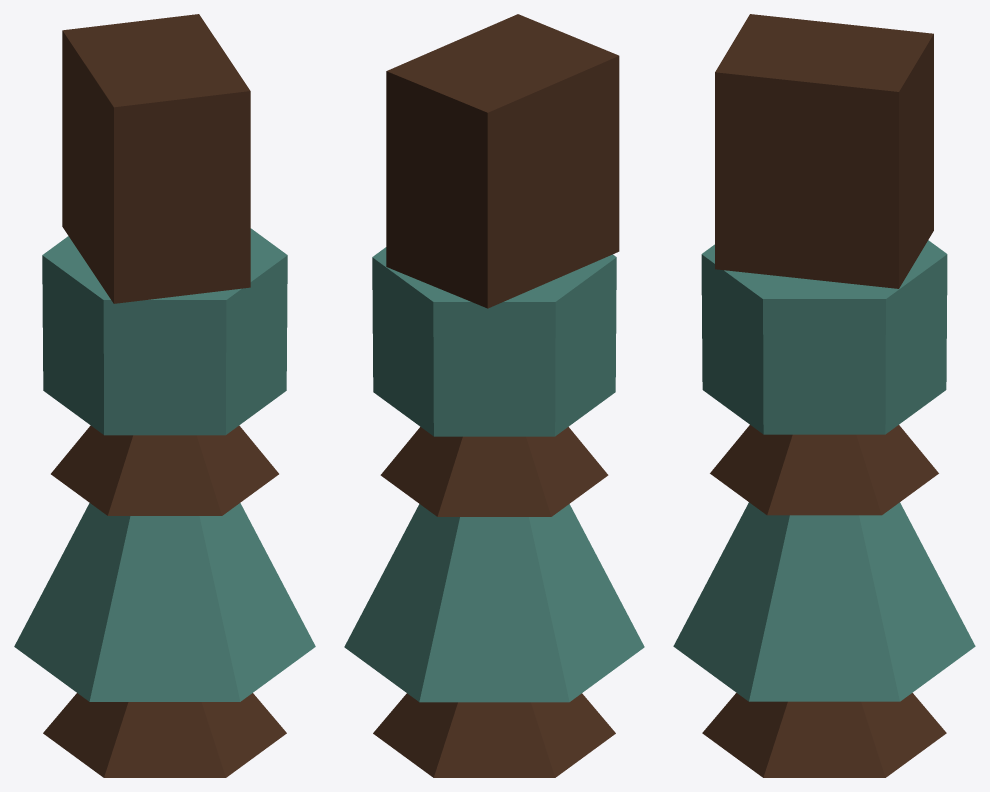
The model's file is sculpture-17.glb.
3 views of the same model, side by side, from view 1: azimuth 30°, elevation 25°; view 2: azimuth 150°, elevation 25°; view 3: azimuth 270°, elevation 25° (orthographic).
Visible parts, largest first — view 1: sculpture_17; view 2: sculpture_17; view 3: sculpture_17.
Boxes of the visible parts, <box> form: sculpture_17: <box>14,14,315,777</box>; sculpture_17: <box>344,14,644,777</box>; sculpture_17: <box>673,14,975,777</box>.
Bounding box in the file's own units: 0.1139 × 0.3243 × 0.1314.
